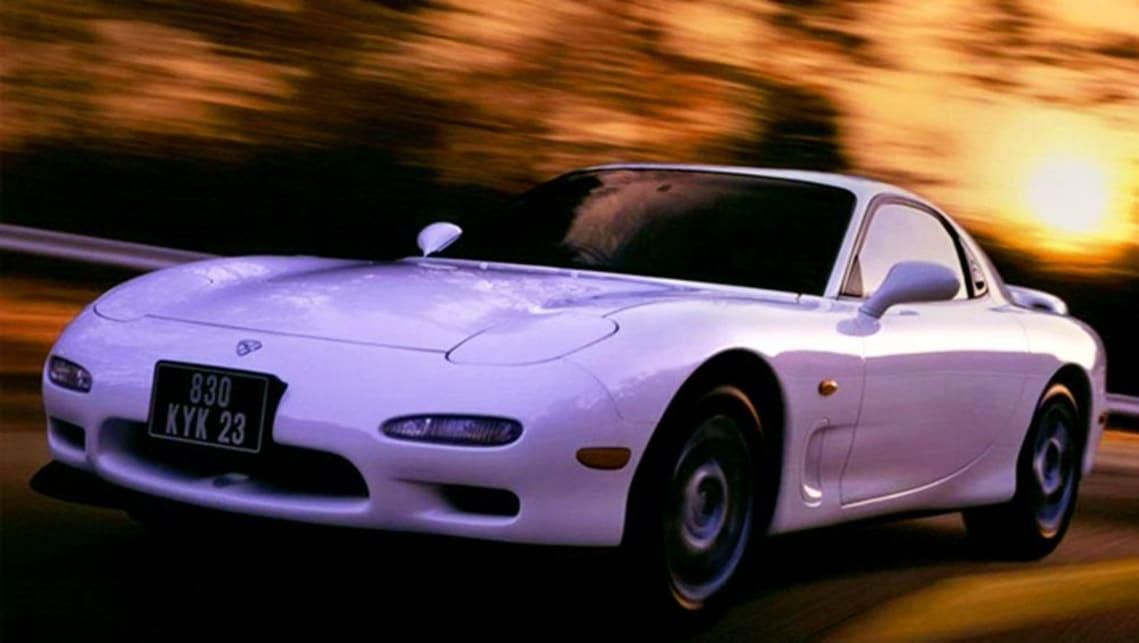windshield: (425, 163, 857, 313)
